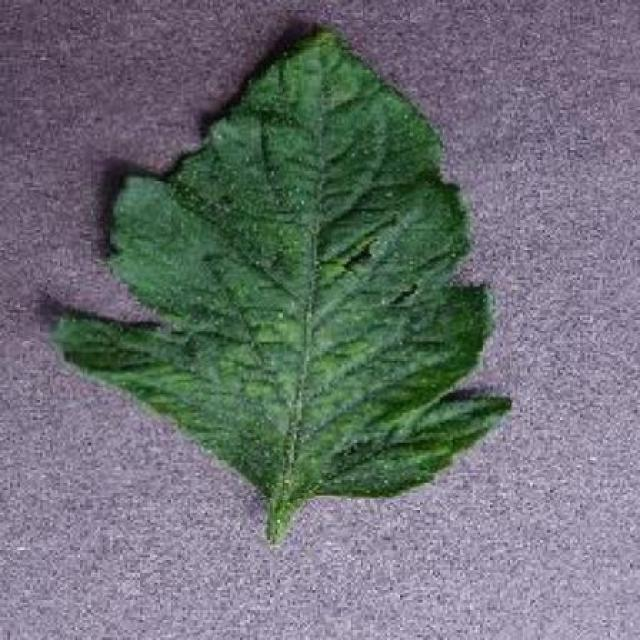Mosaic Virus: (51, 21, 512, 498)
